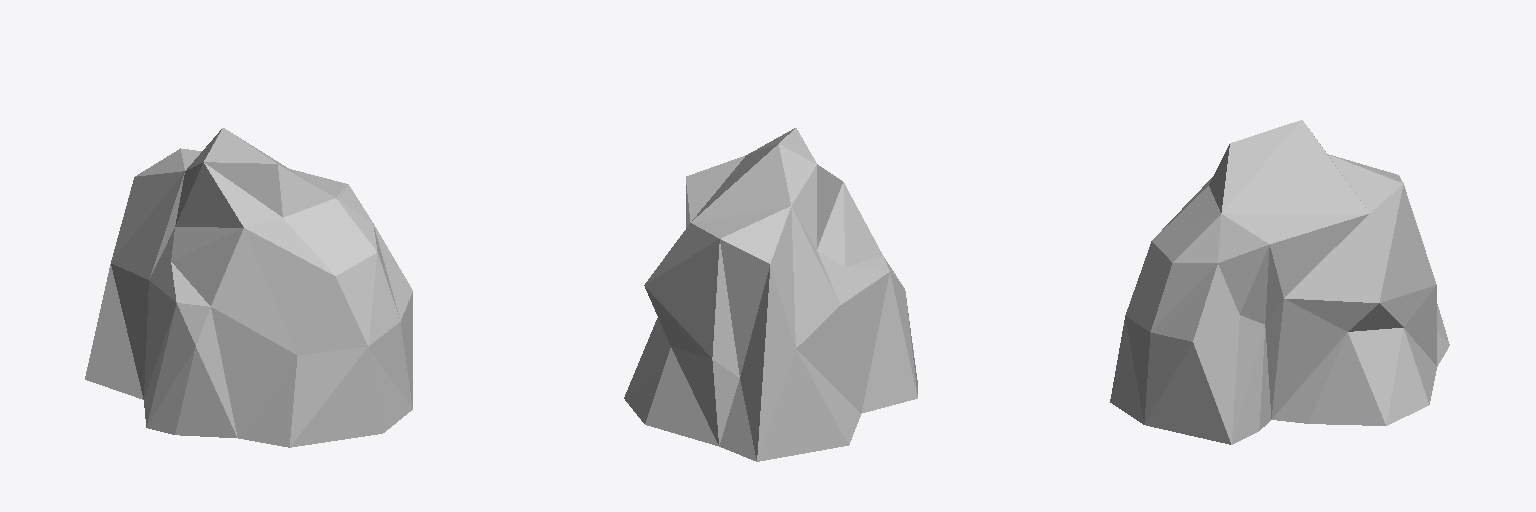
The model's file is rock_001_LOD3.obj.
3 renders of one model, left to right at view 1: azimuth 30°, elevation 25°; view 2: azimuth 150°, elevation 25°; view 3: azimuth 270°, elevation 25°, orthographic.
Visible parts, largest first — view 1: rock_001_LOD3 rock_001; view 2: rock_001_LOD3 rock_001; view 3: rock_001_LOD3 rock_001.
Part boxes in pixels (bbox=[...]): rock_001_LOD3 rock_001: bbox=[85, 128, 412, 447]; rock_001_LOD3 rock_001: bbox=[624, 128, 917, 461]; rock_001_LOD3 rock_001: bbox=[1110, 120, 1449, 444].
Bounding box in the file's own units: 945 × 875 × 1072.